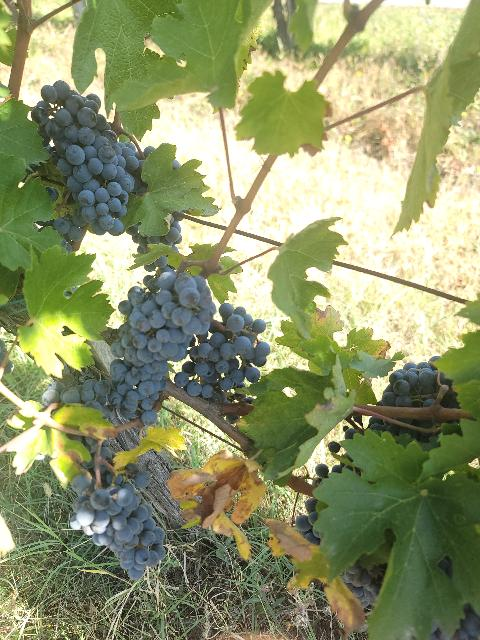grapes: (31, 81, 135, 236), (110, 270, 215, 412), (70, 474, 166, 580), (174, 302, 270, 402), (380, 356, 460, 409)
